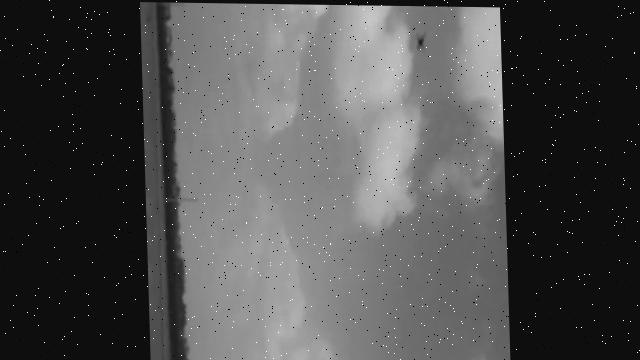drone: (414, 28, 432, 50)
